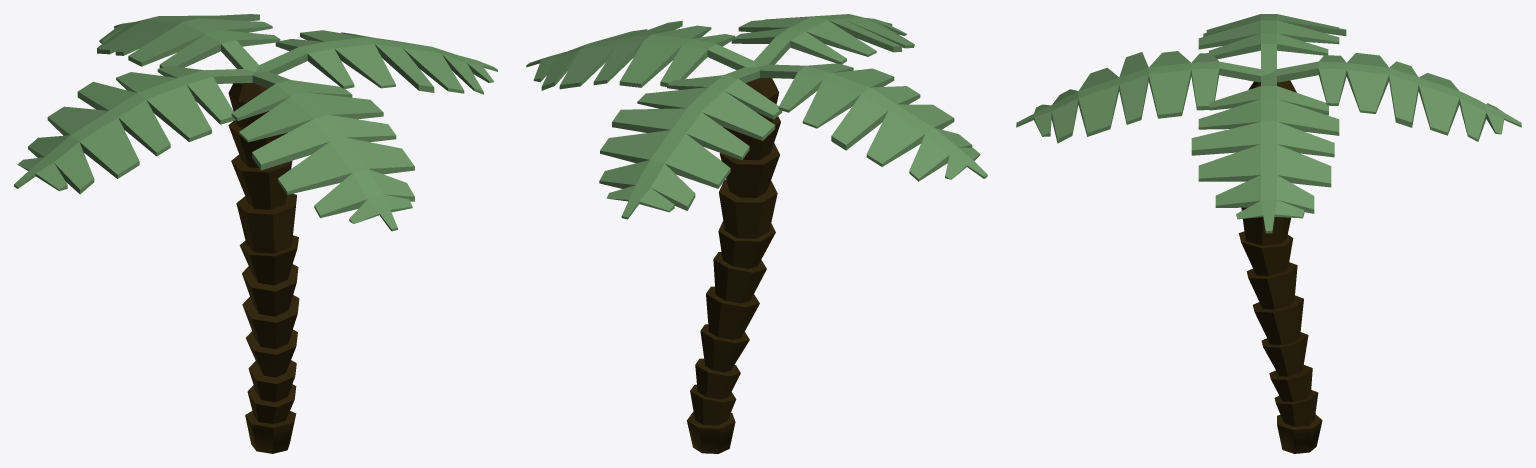
Rendered from DesertItem1.fbx.
3 views of the same model, side by side, from view 1: azimuth 30°, elevation 25°; view 2: azimuth 150°, elevation 25°; view 3: azimuth 270°, elevation 25° (orthographic). The views are drawn at different scales.
Parts seen in each view (by area): view 1: Cylinder.002; view 2: Cylinder.002; view 3: Cylinder.002.
Boxes of the visible parts, <box> form: Cylinder.002: <box>14,14,497,453</box>; Cylinder.002: <box>526,14,987,453</box>; Cylinder.002: <box>1016,14,1521,453</box>.
Bounding box in the file's own units: 667 × 535 × 667.
